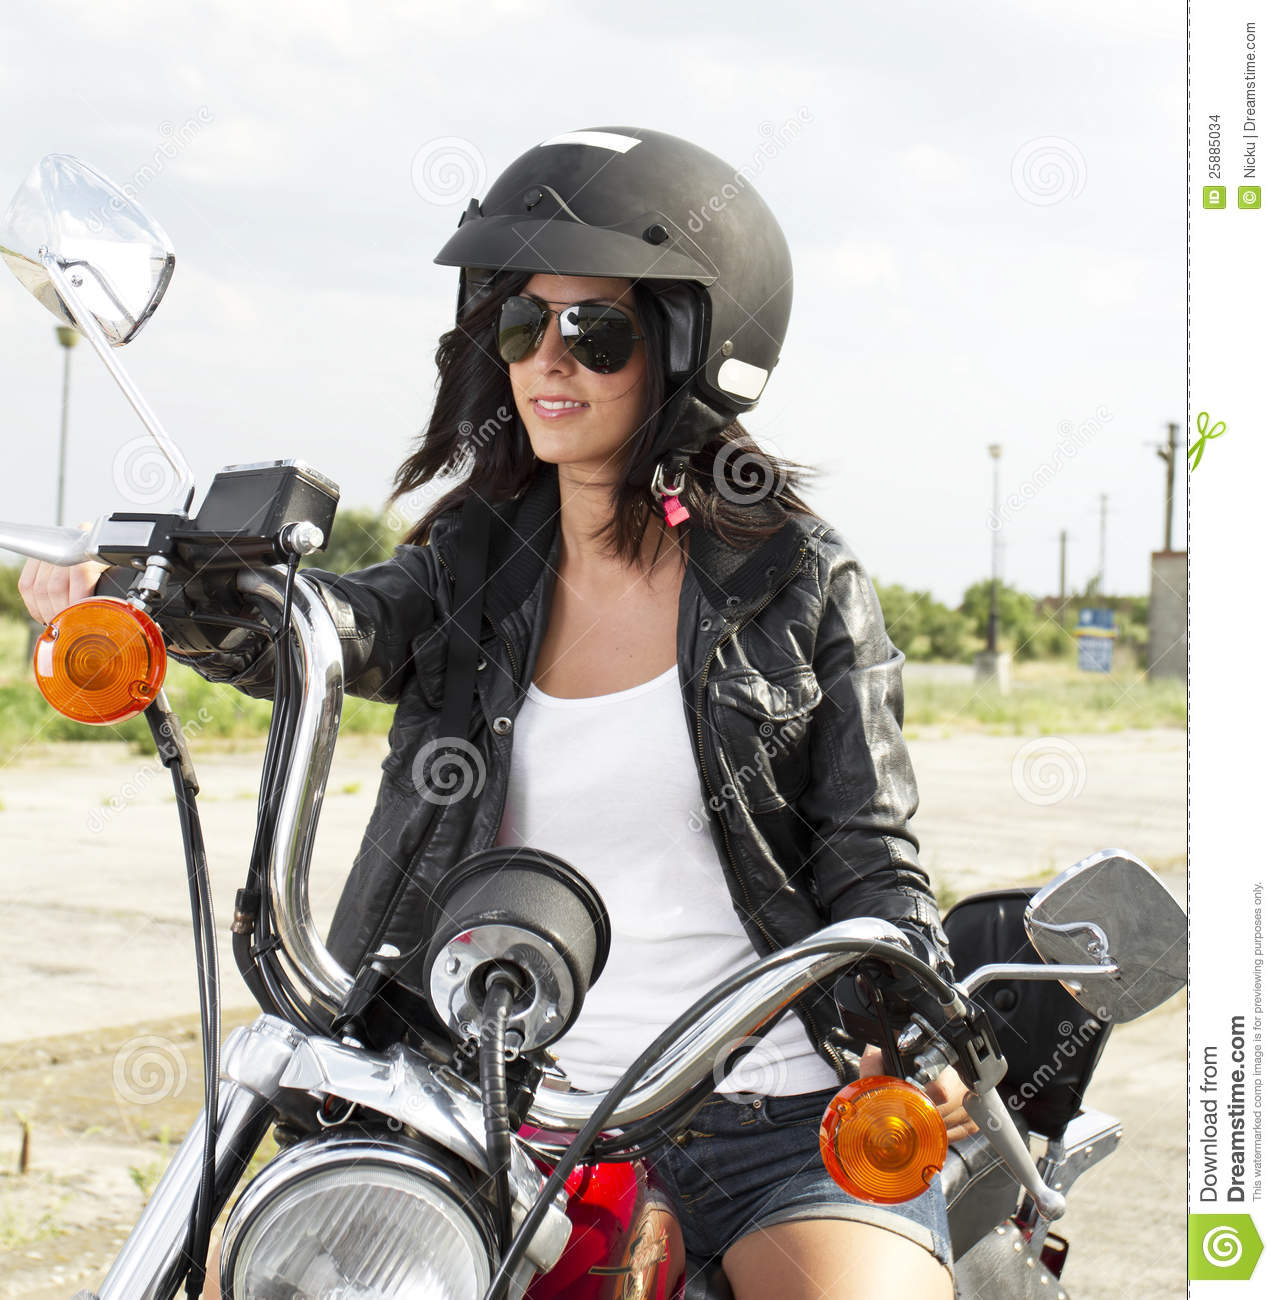helmet: (448, 127, 796, 435)
